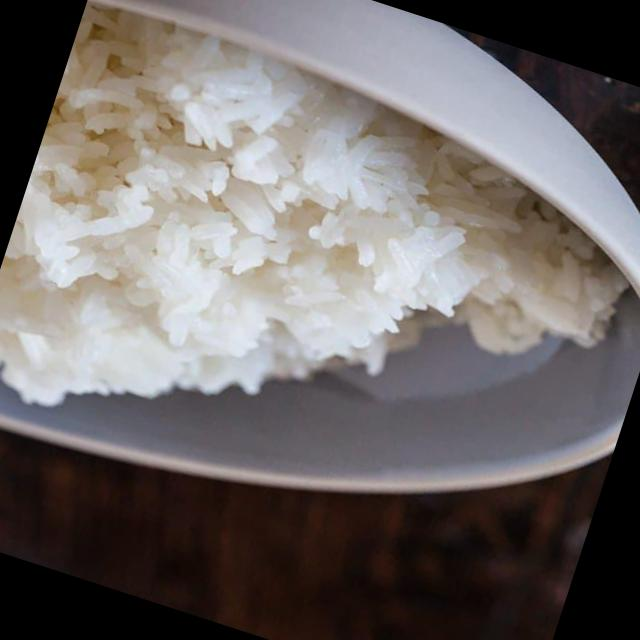rice: (0, 6, 634, 400)
